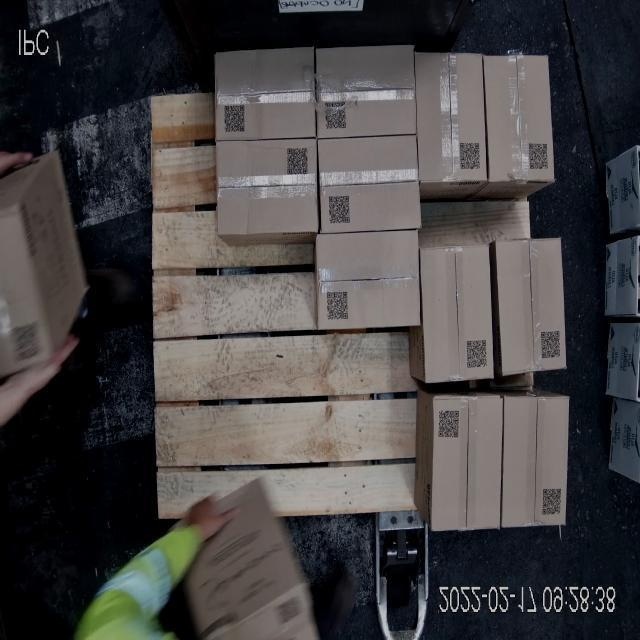box: (430, 396, 504, 534), (316, 230, 418, 330), (420, 247, 494, 382), (495, 240, 567, 378), (216, 140, 318, 236), (318, 140, 420, 236), (498, 399, 568, 529), (416, 55, 486, 183), (316, 48, 414, 138), (484, 58, 554, 184), (215, 50, 315, 138)
